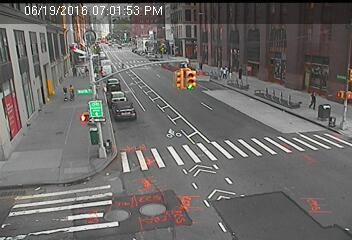neg: (19, 107, 49, 147), (135, 187, 163, 225), (171, 56, 198, 92), (32, 188, 59, 224), (217, 98, 239, 127), (124, 94, 146, 122), (85, 87, 106, 115), (231, 177, 252, 205), (62, 144, 81, 169), (322, 105, 340, 129), (178, 140, 194, 161), (270, 44, 286, 65), (256, 78, 271, 100), (86, 45, 101, 65), (40, 62, 55, 82), (301, 37, 315, 56), (86, 124, 99, 143)
pos: (305, 87, 321, 107), (102, 134, 117, 155)
